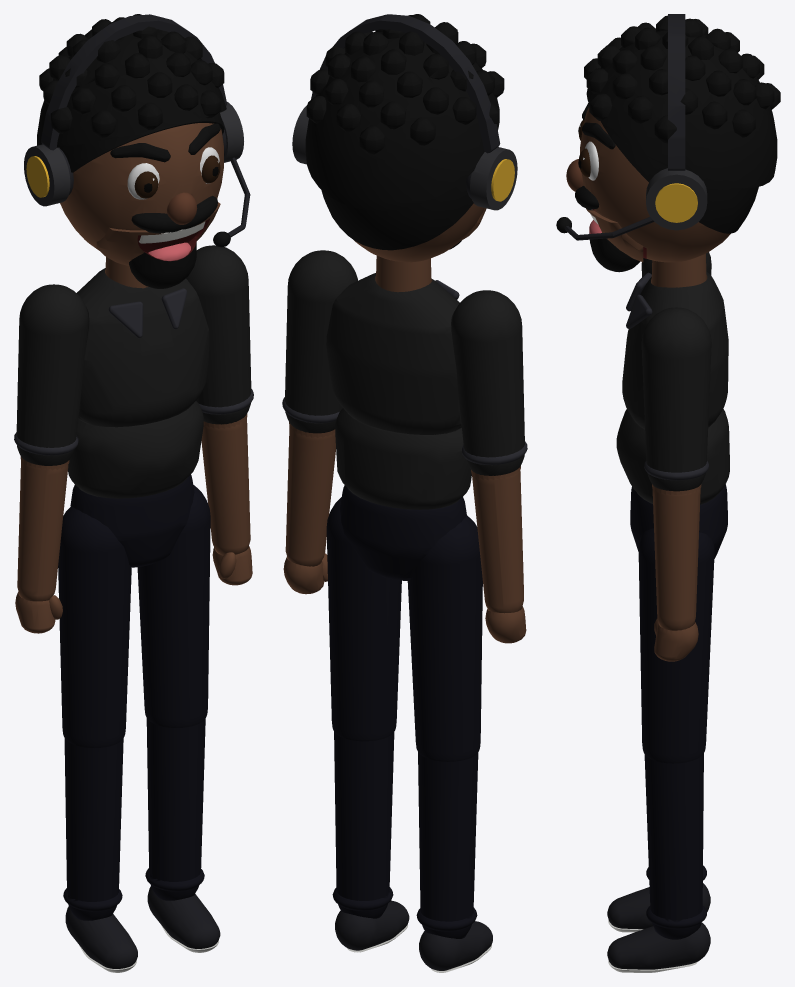
File: ewa_yasser.glb
3 views of the same model, side by side, from view 1: azimuth 30°, elevation 25°; view 2: azimuth 150°, elevation 25°; view 3: azimuth 270°, elevation 25° (orthographic). The views are drawn at different scales.
Visible parts, largest first — view 1: creature; view 2: creature; view 3: creature.
Part boxes in pixels (box(x1,y1,x2,y2)): creature: box(14, 14, 253, 972); creature: box(282, 14, 527, 972); creature: box(556, 14, 780, 972).
Size of the model in its own units: 0.2625 by 1 by 0.2186.
